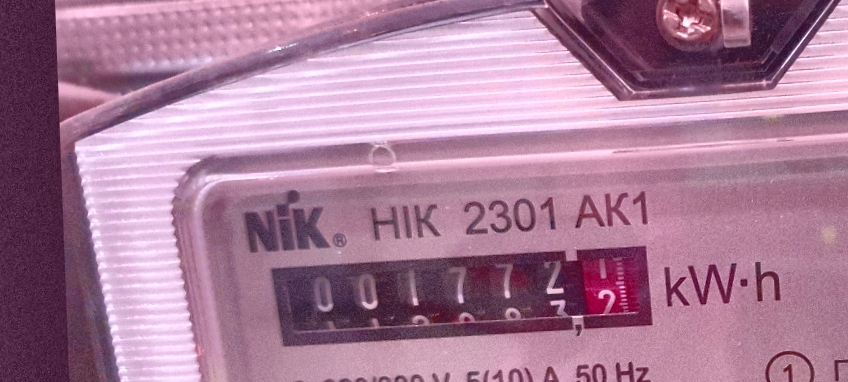0: (307, 271, 336, 313), (355, 269, 379, 309)
1: (403, 267, 421, 306), (595, 255, 609, 281)
2: (541, 258, 565, 296), (593, 285, 617, 314)
3: (547, 296, 569, 318)
7: (446, 263, 470, 305), (492, 261, 515, 300)
screen: (259, 234, 669, 357)
